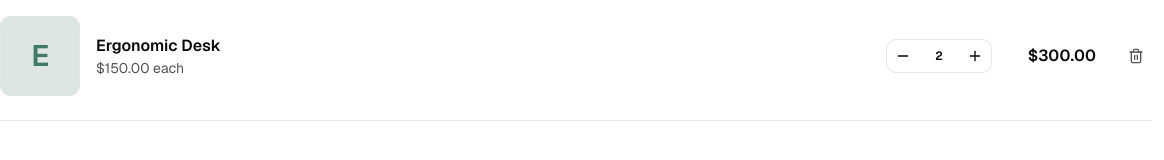
Test: CartItemRow › shows stock error message and disables increase at available limit
Step 1. Click the button named "increase quantity of ergonomic desk" → point(975, 56), box [959,40,991,72]
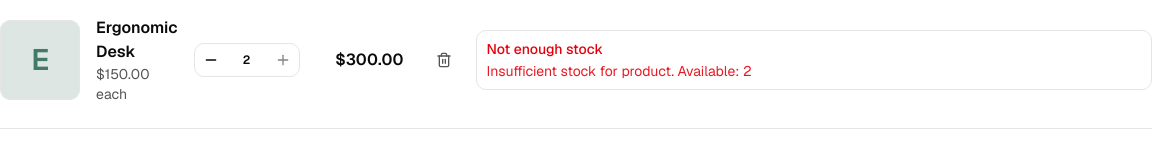
expect the text "Not enough stock" is shown: met, box [486,40,603,58]
expect the text "Insufficient stock for product. Available: 2" is shown: met, box [486,62,752,80]
expect the button named "increase quantity of ergonomic desk" is disabled: met, box [266,44,298,76]
